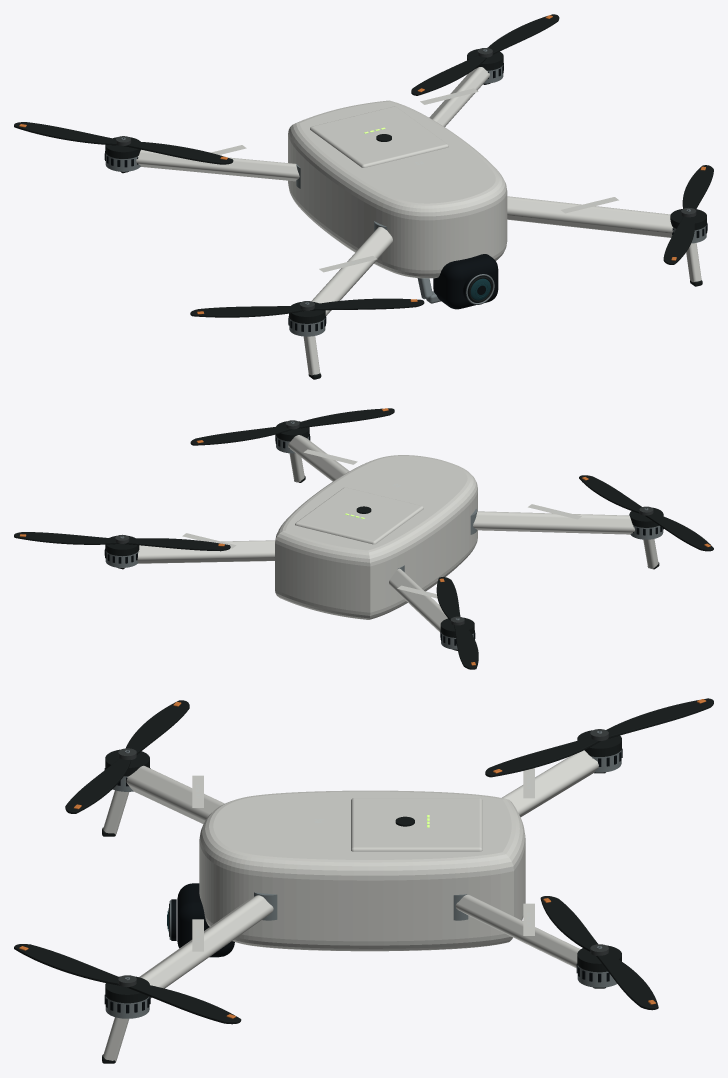
File: lito-x1-default.glb
The picture shows the model from 3 angles, top to bottom: view 1: azimuth 30°, elevation 25°; view 2: azimuth 150°, elevation 25°; view 3: azimuth 270°, elevation 25°; orthographic projection. The views are drawn at different scales.
Parts seen in each view (by area): view 1: fuselage, arm-1-1, blade-1 (×4), blade-0 (×4), motor-and-propeller (×4), arm--1-1, arm--1--1, stabilized-camera, arm-1--1, lens-assembly; view 2: fuselage, arm--1-1, blade-1 (×4), blade-0 (×4), motor-and-propeller (×4), arm-1--1, arm-1-1, arm--1--1; view 3: fuselage, blade-0 (×4), blade-1 (×4), arm-1-1, motor-and-propeller (×4), arm--1-1, arm-1--1, arm--1--1, stabilized-camera.
Part boxes in pixels (left/top/right/bottom): fuselage: left=288, top=100, right=507, bottom=278; arm-1-1: left=507, top=196, right=702, bottom=286; blade-1 (×4): left=14, top=55, right=694, bottom=317; blade-0 (×4): left=124, top=14, right=713, bottom=310; motor-and-propeller (×4): left=104, top=49, right=707, bottom=336; arm--1-1: left=303, top=221, right=392, bottom=379; arm--1--1: left=120, top=145, right=300, bottom=188; stabilized-camera: left=417, top=254, right=498, bottom=309; arm-1--1: left=420, top=67, right=490, bottom=126; lens-assembly: left=463, top=271, right=494, bottom=304; fuselage: left=275, top=455, right=477, bottom=619; arm--1-1: left=470, top=504, right=659, bottom=569; blade-1 (×4): left=124, top=408, right=713, bottom=669; blade-0 (×4): left=14, top=425, right=641, bottom=620; motor-and-propeller (×4): left=104, top=421, right=663, bottom=649; arm-1--1: left=117, top=533, right=275, bottom=569; arm-1-1: left=288, top=435, right=357, bottom=482; arm--1--1: left=389, top=565, right=457, bottom=650; fuselage: left=199, top=790, right=525, bottom=951; blade-0 (×4): left=65, top=737, right=658, bottom=1024; blade-1 (×4): left=14, top=698, right=713, bottom=985; arm-1-1: left=102, top=892, right=277, bottom=1063; motor-and-propeller (×4): left=104, top=730, right=622, bottom=1018; arm--1-1: left=102, top=765, right=224, bottom=836; arm-1--1: left=453, top=894, right=605, bottom=988; arm--1--1: left=502, top=750, right=605, bottom=817; stabilized-camera: left=177, top=883, right=234, bottom=957.
Bounding box in the file's own units: 0.2657 × 0.0475 × 0.236.
Materials: 10 (2 with a texture image).
